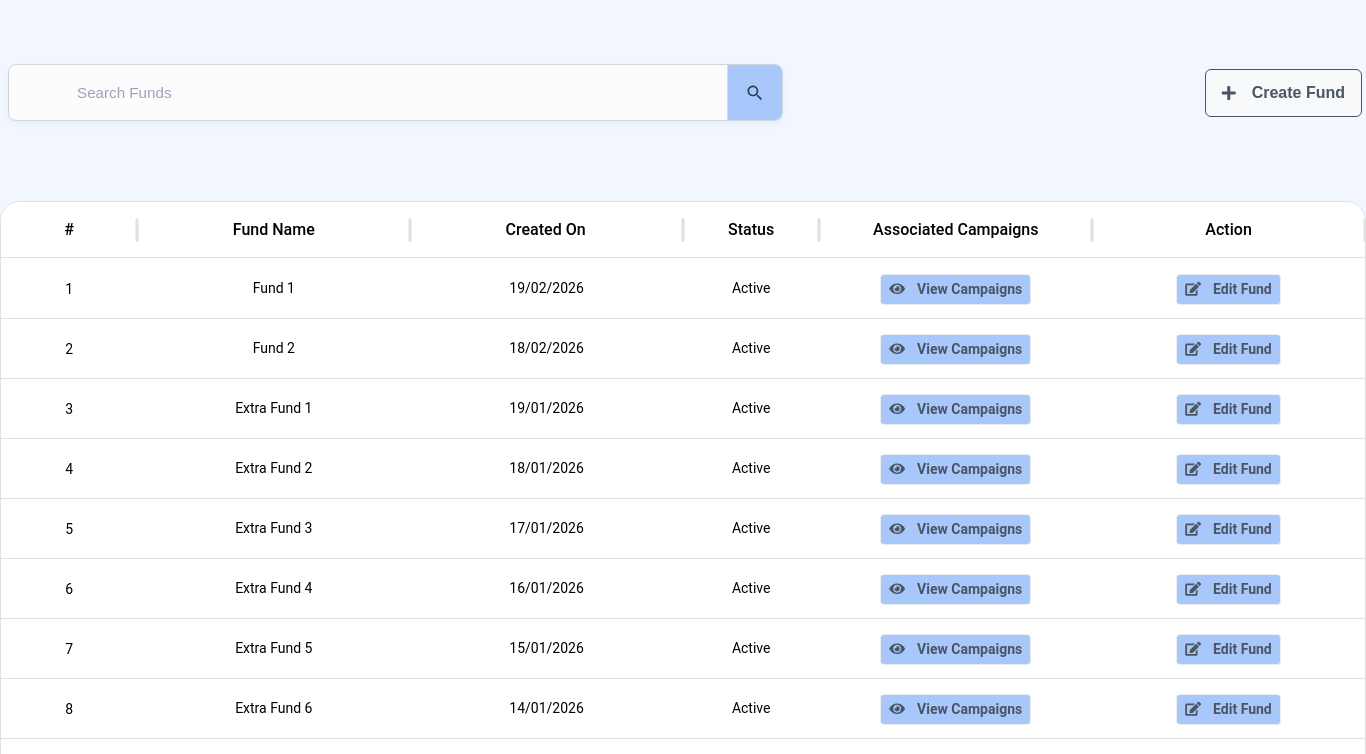
Scenario: OrganizationFunds Screen => › open and close Create Fund modal
Click the button with test id "createFundBtn".
click(1283, 92)  # box [1205,68,1362,116]
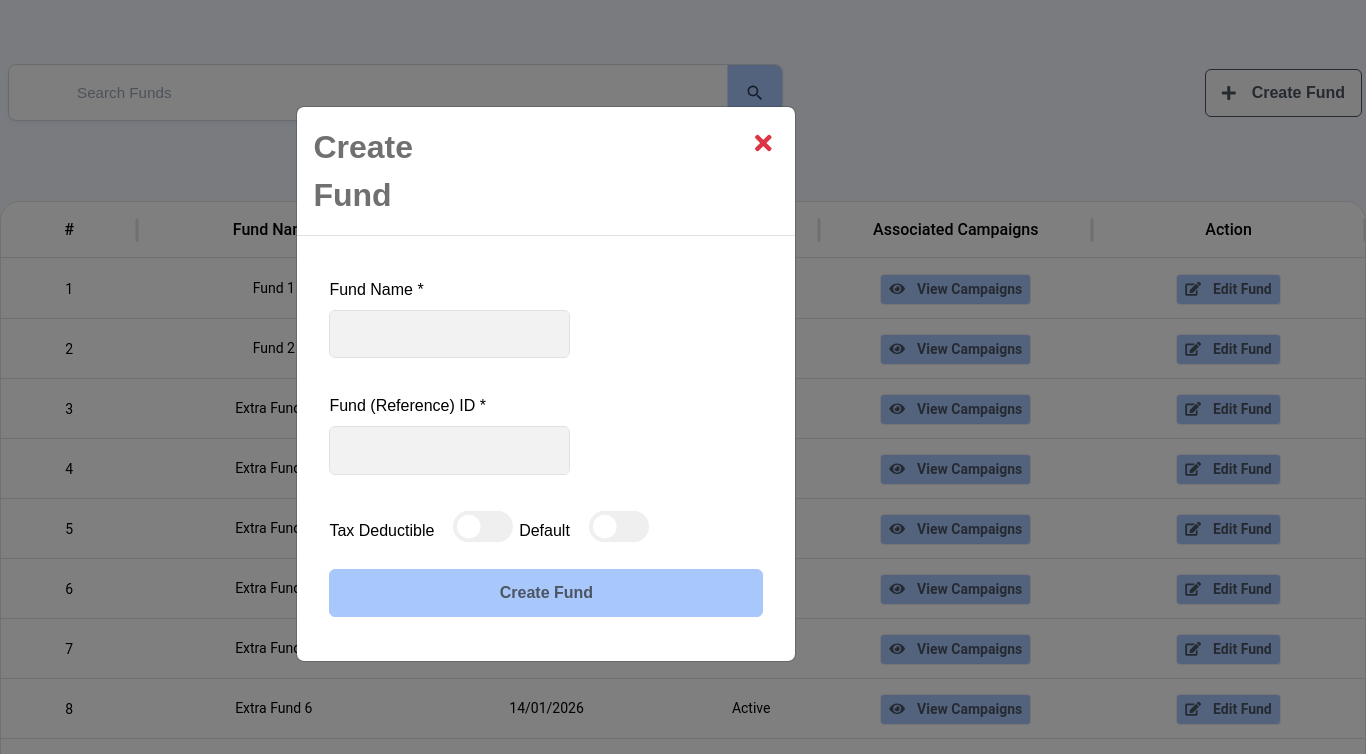
Expected: the text with test id "modalTitle" reads "Create Fund", [313,129,413,213]
Click the button with test id "modalCloseBtn".
click(763, 143)  # box [747,123,779,163]
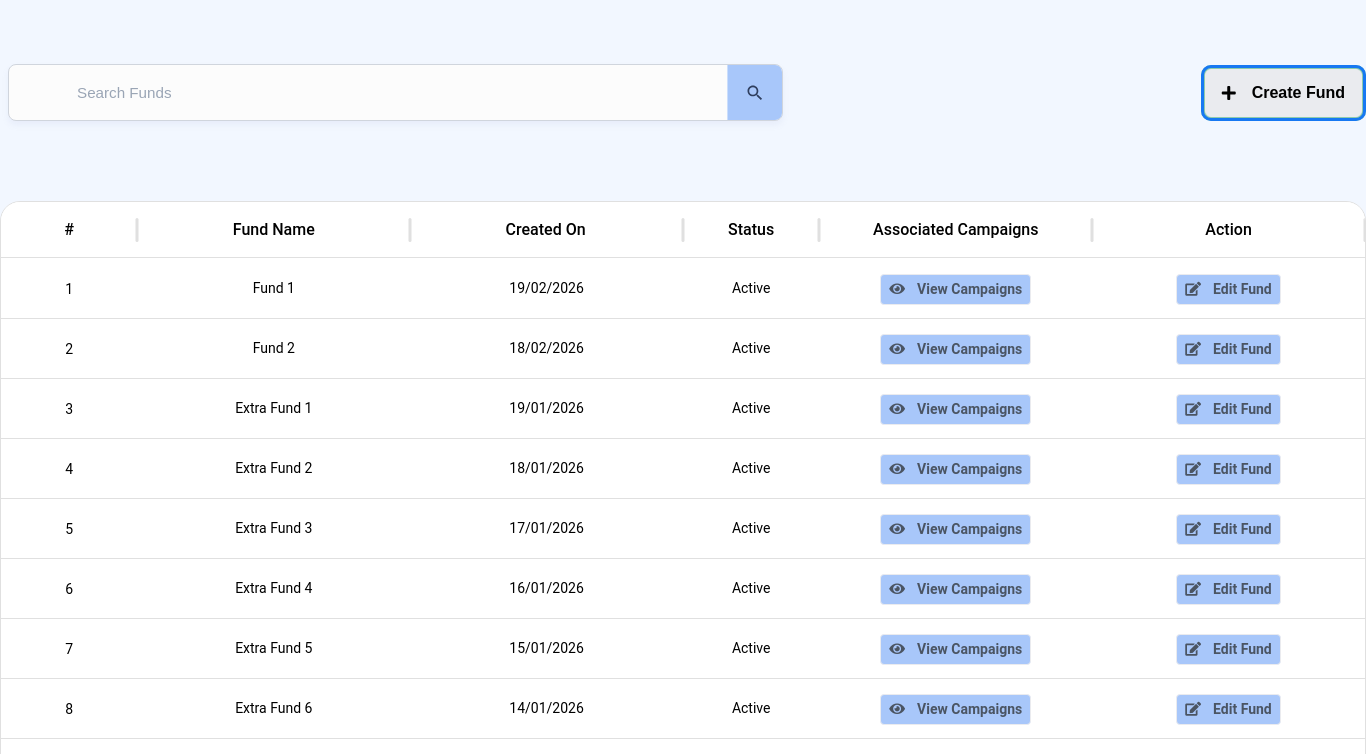
Expected: the button with test id "modalCloseBtn" is gone
